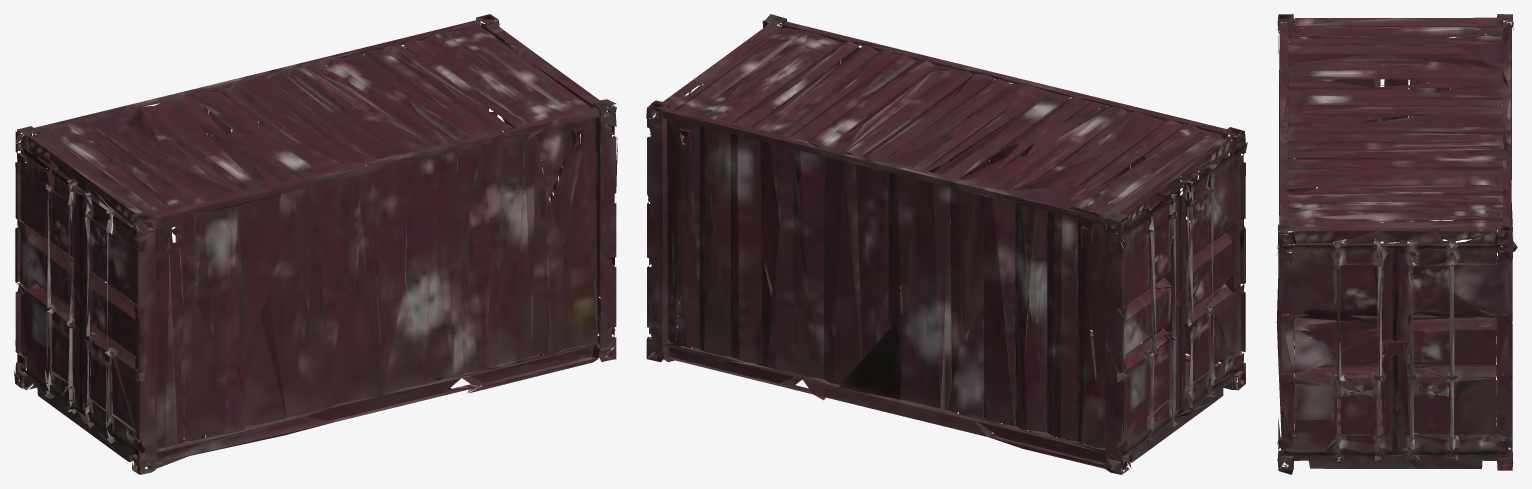
The model's file is container_red.glb.
3 views of the same model, side by side, from view 1: azimuth 30°, elevation 25°; view 2: azimuth 150°, elevation 25°; view 3: azimuth 270°, elevation 25° (orthographic). The views are drawn at different scales.
Parts seen in each view (by area): view 1: Mesh_0; view 2: Mesh_0; view 3: Mesh_0.
Part boxes in pixels (x1,y1,x2,y2): Mesh_0: (14,14,617,474); Mesh_0: (646,14,1247,474); Mesh_0: (1276,14,1517,474).
Size of the model in its own units: 1.92 by 0.9841 by 0.8789.
Materials: 1 (1 with a texture image).
